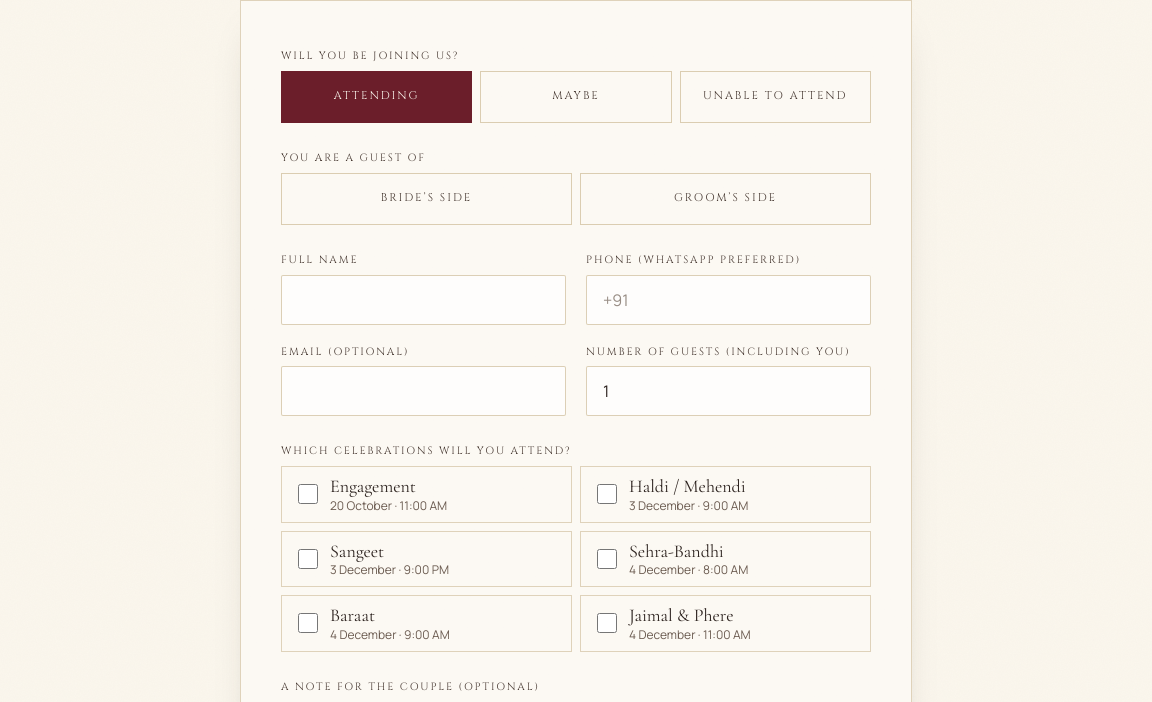
Test: RsvpForm › allows declining without choosing celebrations
Click the radio button "Unable to attend". click: (775, 97)
box: [680,71,871,123]
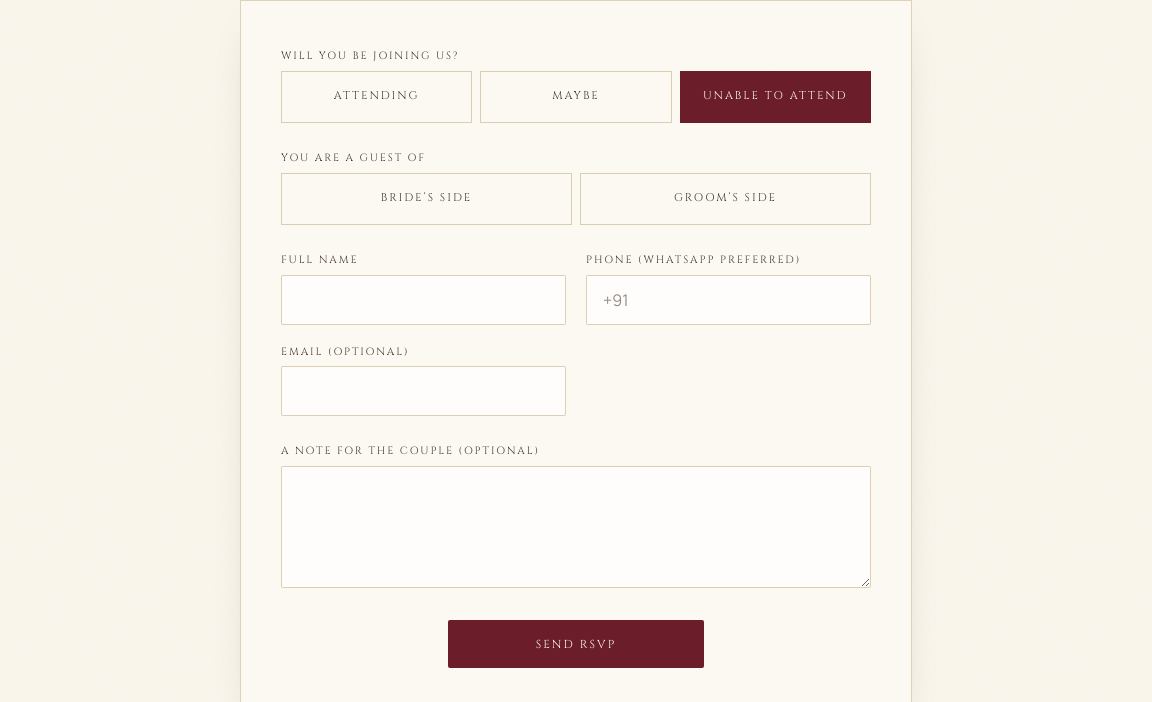
Result: the text "Sangeet" is gone
// The celebrations list animates out.
Click the radio button "Bride’s side". click: (426, 199)
box: [281,173,572,225]
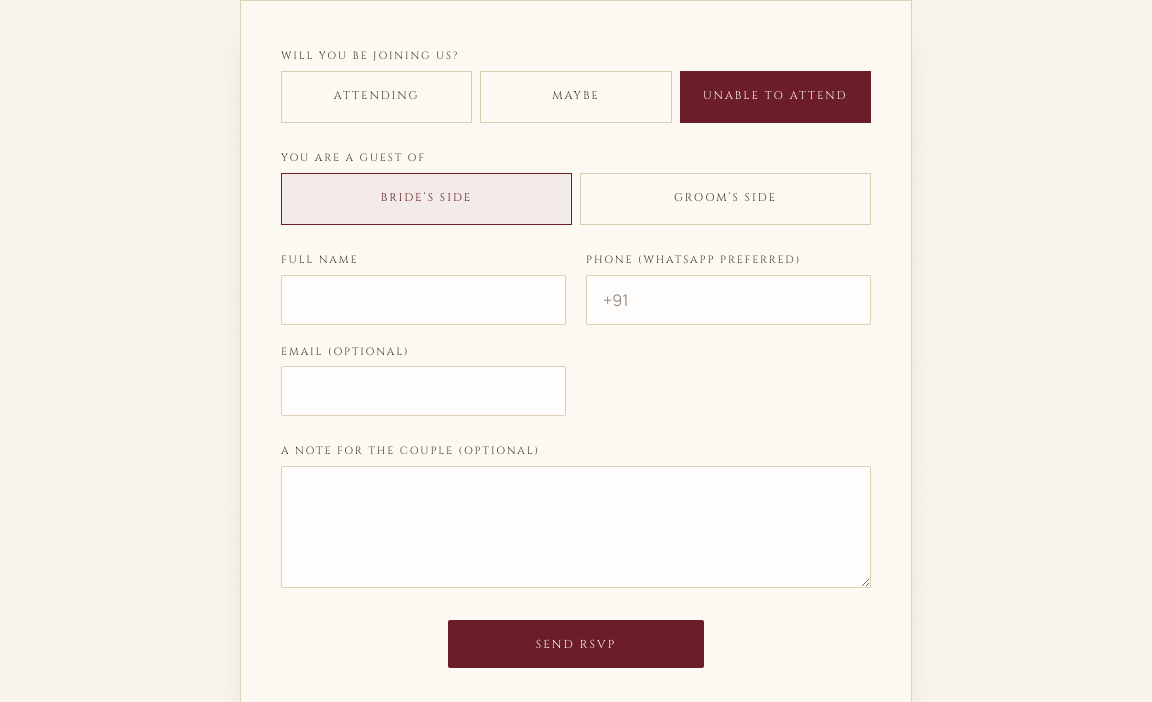
Type "Arjun Malhotra" into the field labelled "Full name". click: (424, 300)
box: [281,274,566,324]
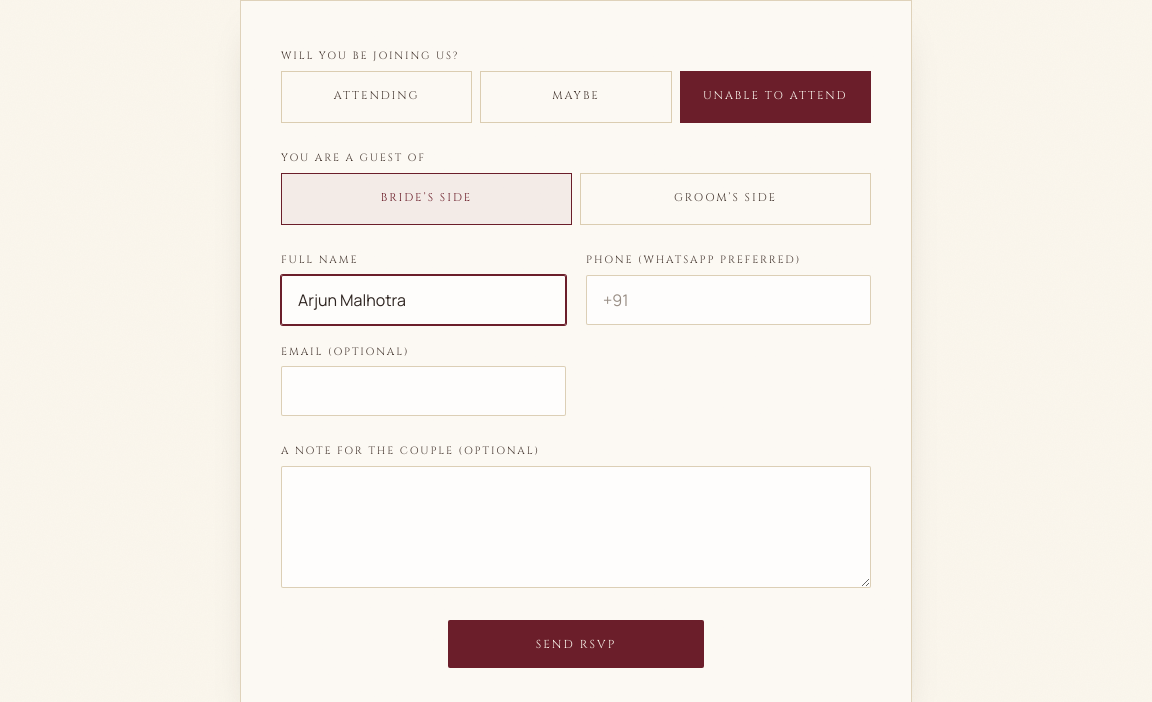
Type "+44 7700 900123" into the field labelled "Phone (WhatsApp preferred)". click: (728, 300)
box: [586,274,871,324]
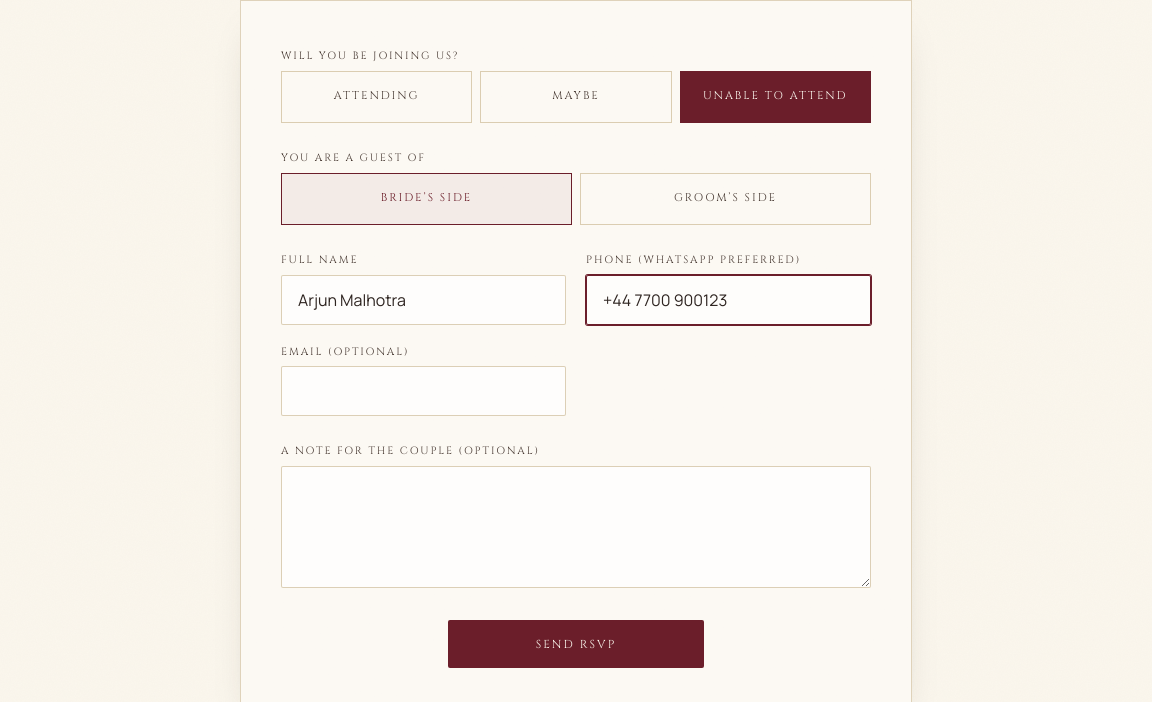
Click the button "Send RSVP". click: (576, 644)
box: [448,620,704,668]
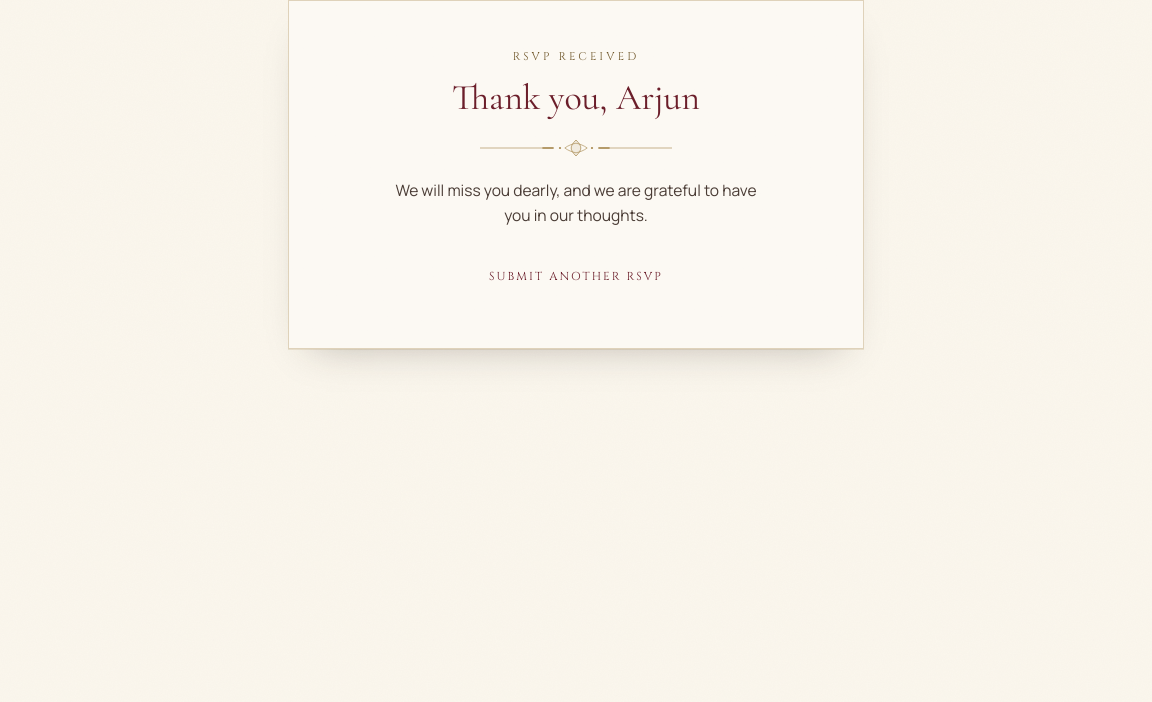
Result: the text "We will miss you dearly" is shown at [396,179,756,226]
